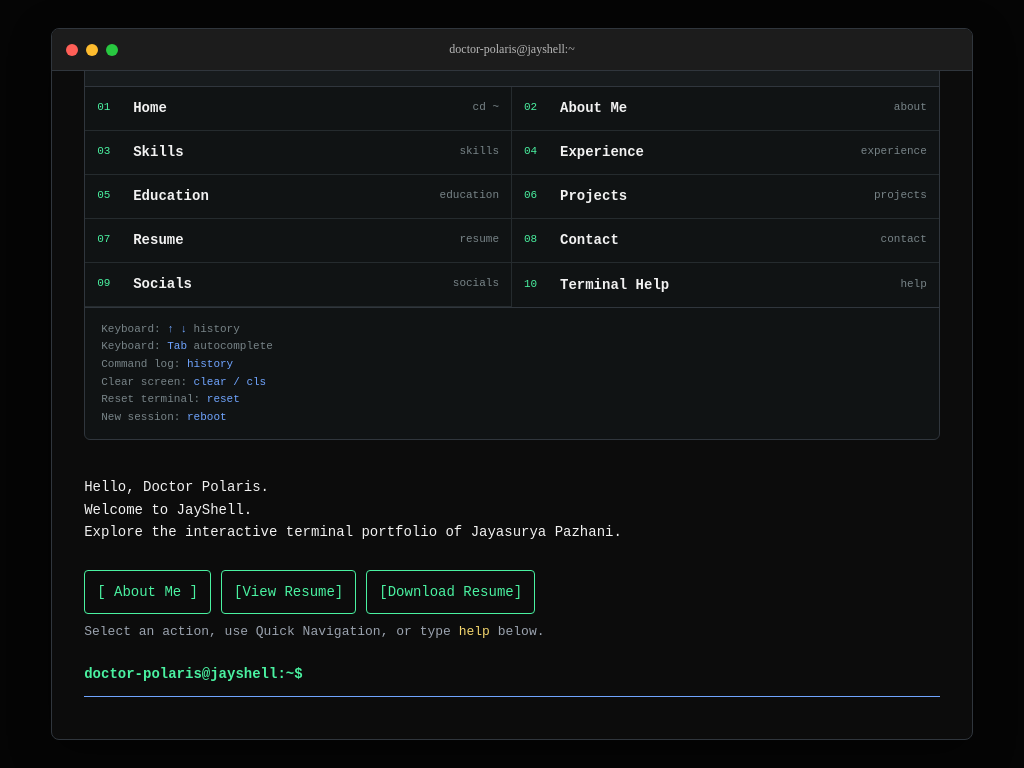
Test case: App terminal integration › runs commands from Quick Navigation
The image size is (1024, 768).
(page scrolled)
Click the button "04 Experience experience".
click(602, 152)  # box [512,131,939,175]
(page scrolled)
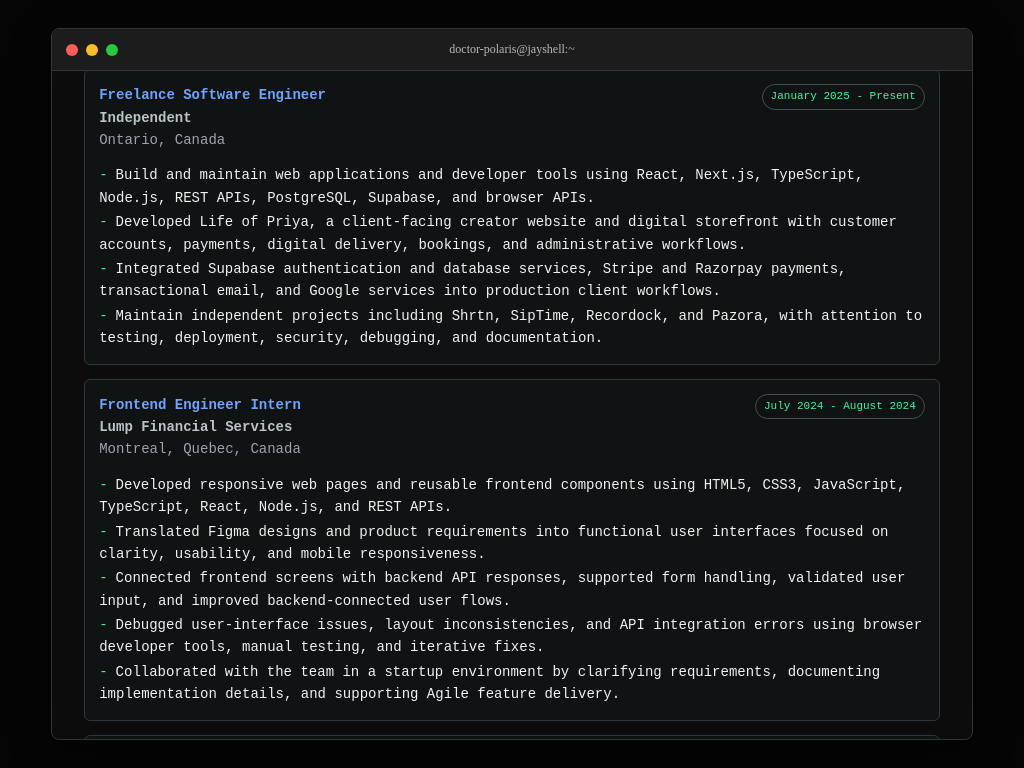
Expected: the text "Frontend Engineer Intern" is shown, [99,394,301,416]
